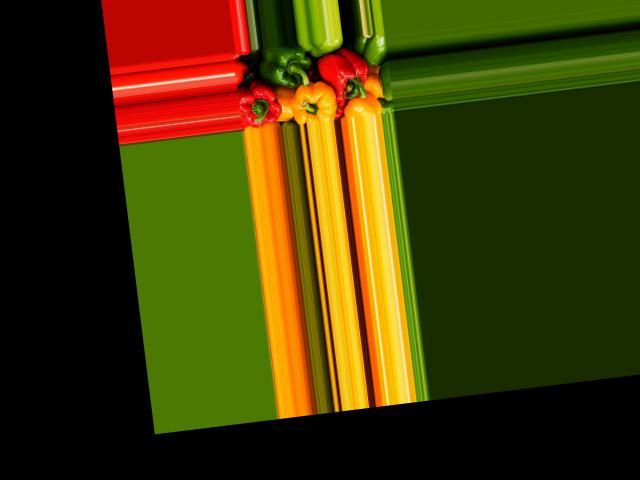bell_pepper: (236, 77, 288, 129)
